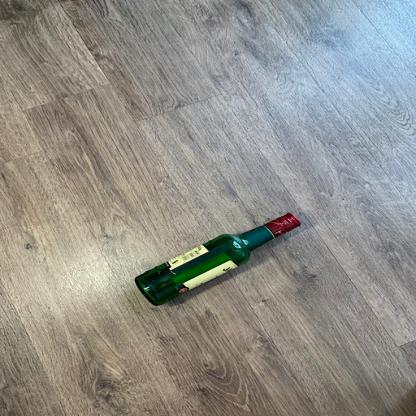trash: (133, 212, 305, 304)
